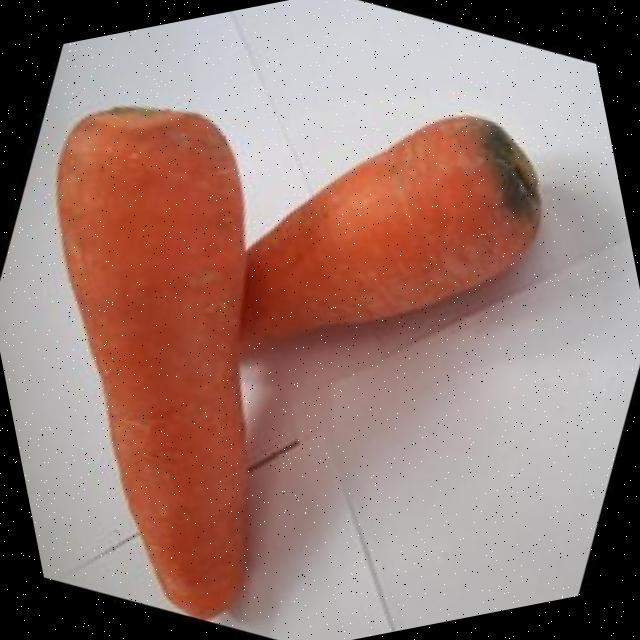carrot: (58, 108, 246, 616), (243, 116, 541, 337)
